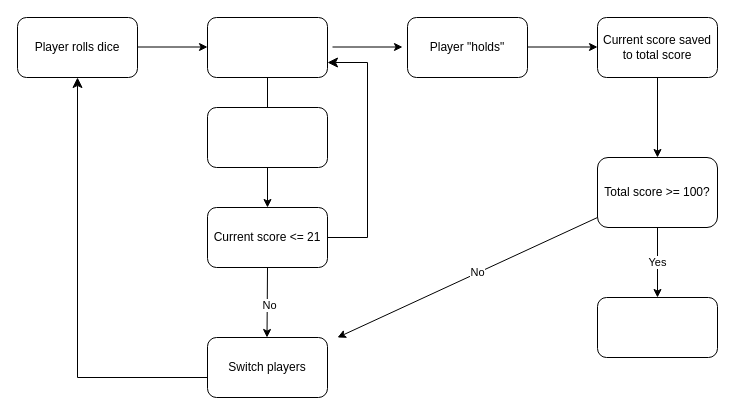
Some shapes in this 735 by 415 pixel diagram are drawn without their labels. Here are the shapes that lost their labels. From the top down, the centre of each, then its label:
At (x=267, y=47): "Add dice roll to current score".
At (x=267, y=137): "Player rolls again".
At (x=657, y=327): "Player wins".
